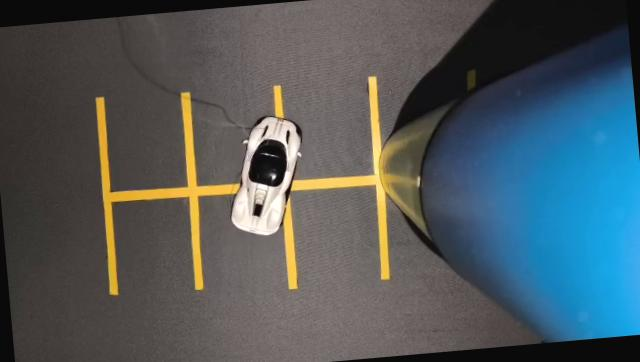toy_car: (210, 98, 320, 246)
